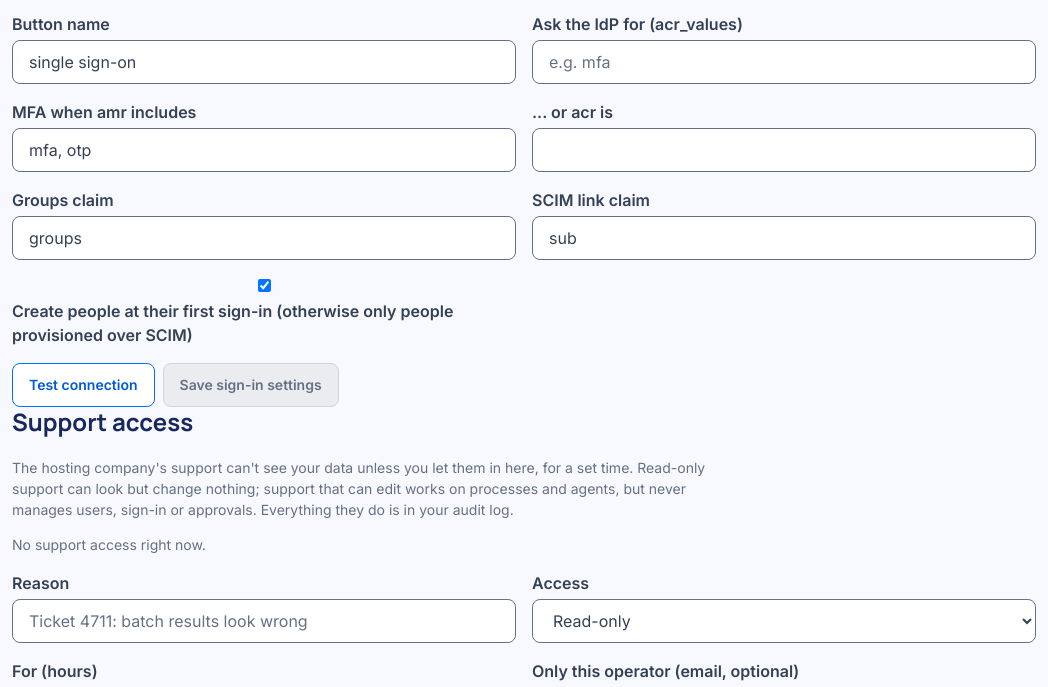
Test: Sign-in settings (Epic 38, US38.6) › explains a failed connection test and keeps saving off
(page scrolled)
Click the button "Test connection".
click(83, 385)  # box [12,363,154,407]
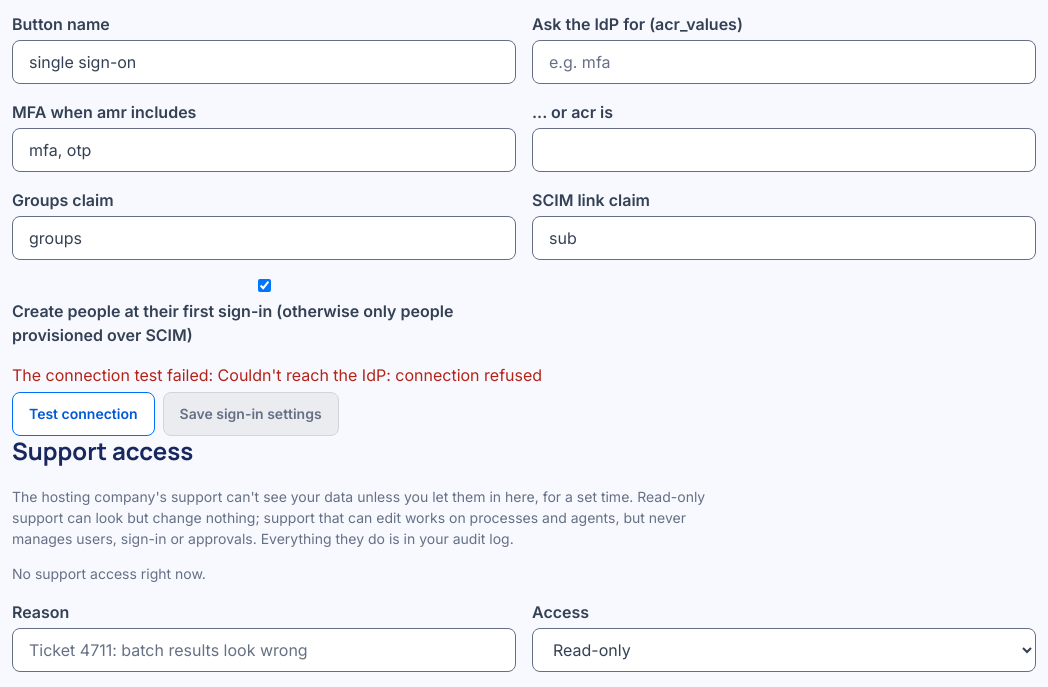
Expected: the button "Save sign-in settings" is disabled, [162,392,339,436]
Expected: the text "The connection test failed: Couldn't reach the IdP: connection refused" is shown, [12,365,542,385]
